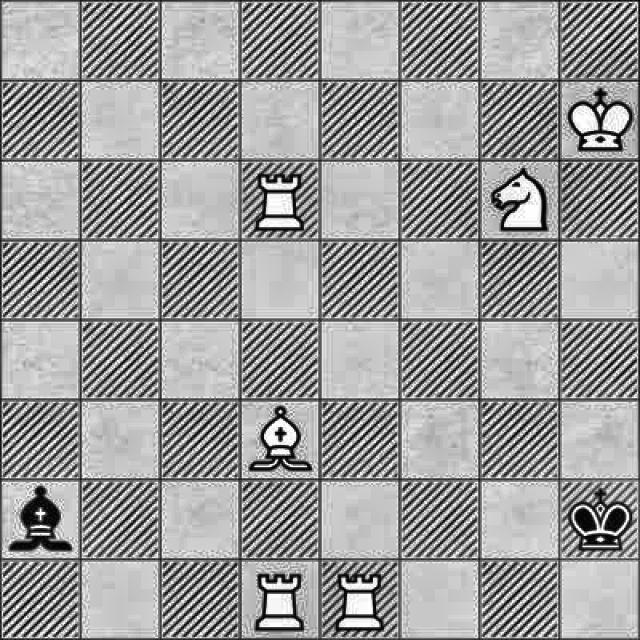black bishop: (8, 485, 78, 555)
black king: (563, 483, 634, 557)
white bishop: (248, 404, 320, 476)
white king: (565, 82, 636, 152)
white rook: (245, 169, 312, 234), (331, 566, 392, 637), (248, 569, 312, 634)
whiteknight: (477, 164, 552, 236)
